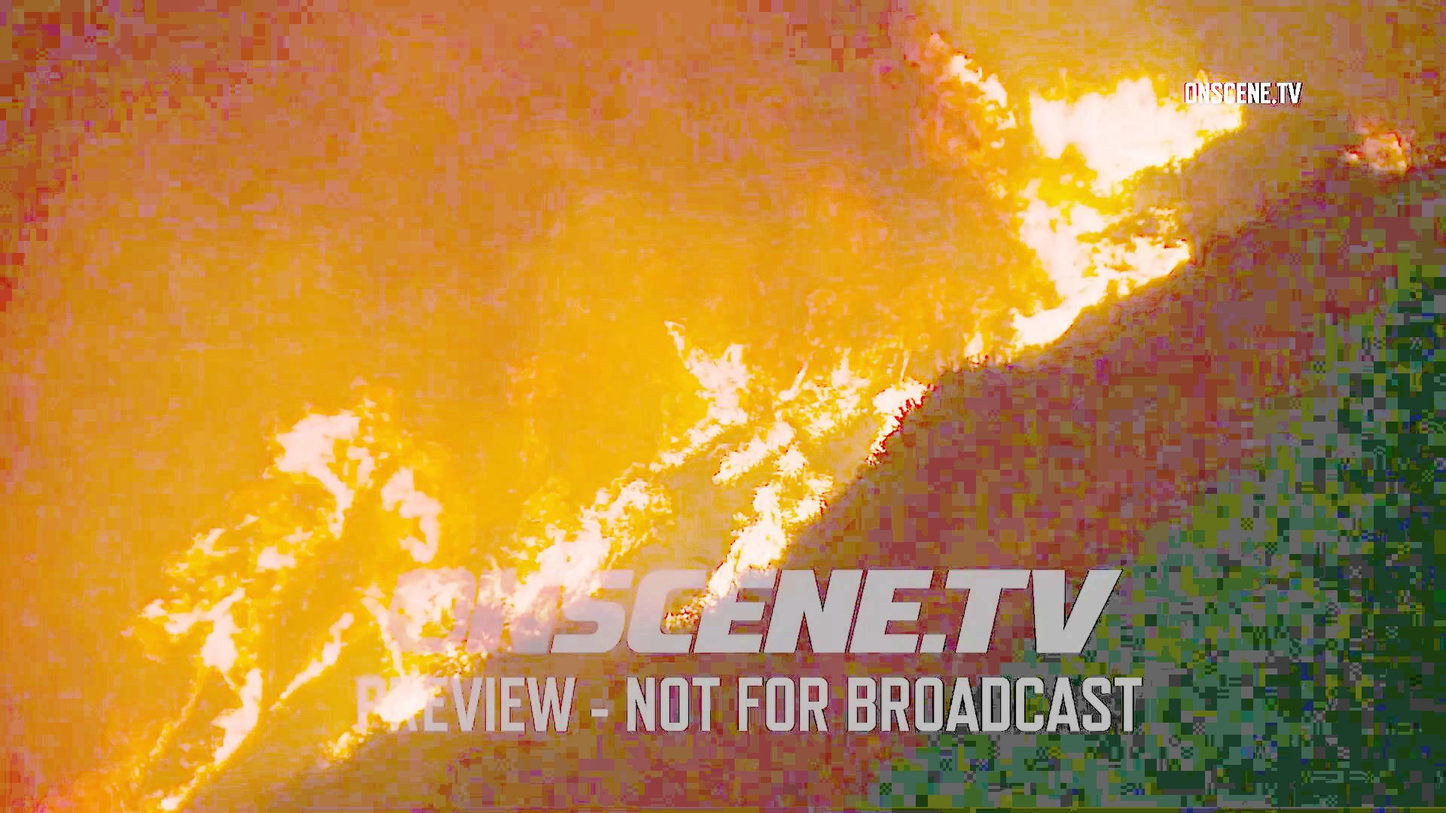fire: (106, 377, 448, 708), (908, 17, 1154, 279), (671, 305, 829, 539)
